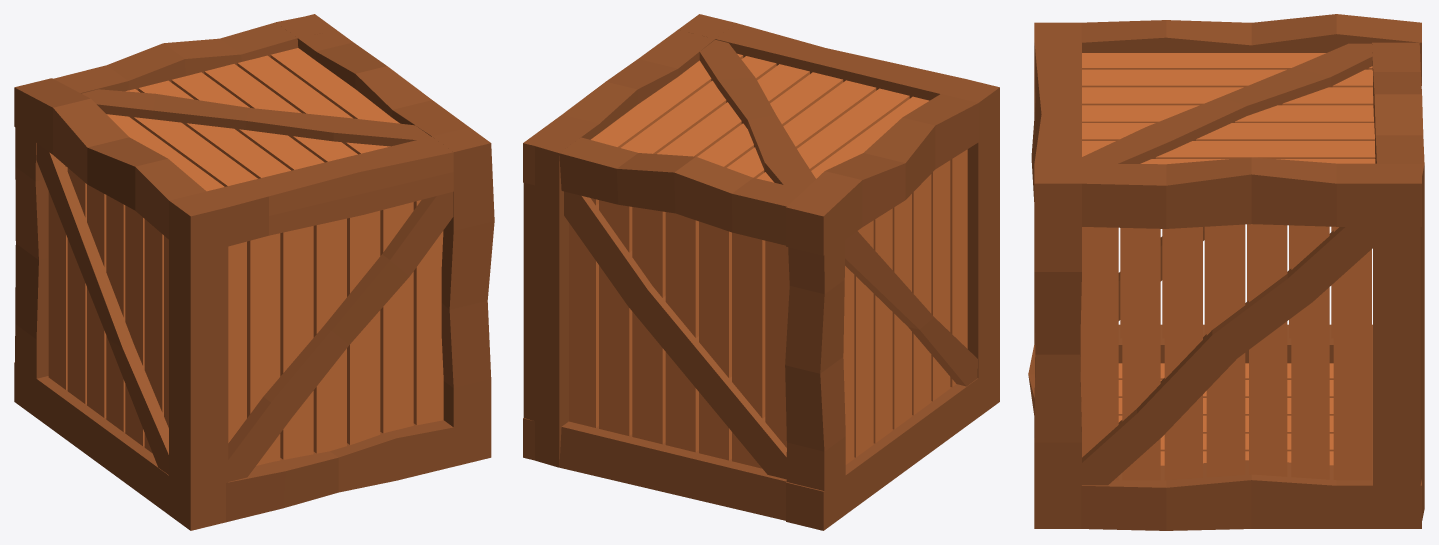
File: Crate 2.glb
3 renders of one model, left to right at view 1: azimuth 30°, elevation 25°; view 2: azimuth 150°, elevation 25°; view 3: azimuth 270°, elevation 25°, orthographic. The views are drawn at different scales.
Parts seen in each view (by area): view 1: Crate2; view 2: Crate2; view 3: Crate2.
Part boxes in pixels (x1=…): Crate2: x1=14, y1=14, x2=494, y2=530; Crate2: x1=523, y1=14, x2=999, y2=530; Crate2: x1=1028, y1=14, x2=1424, y2=530.
Bounding box in the file's own units: 0.6397 × 0.6382 × 0.6477.
